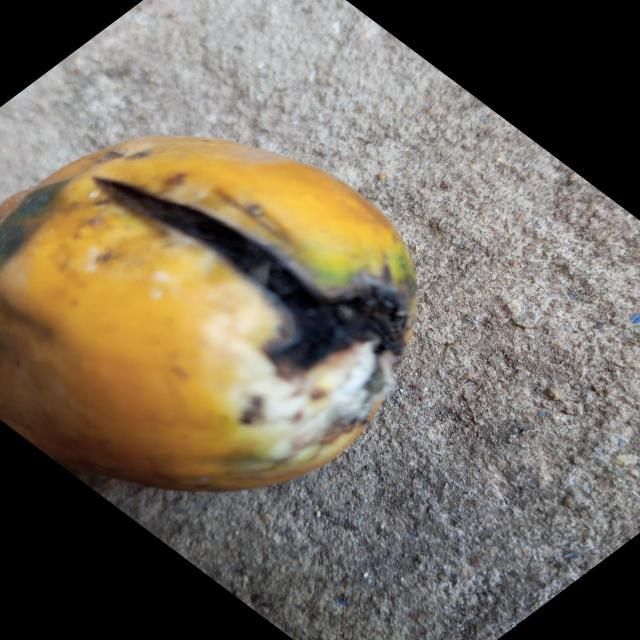damaged: (0, 137, 417, 491)
